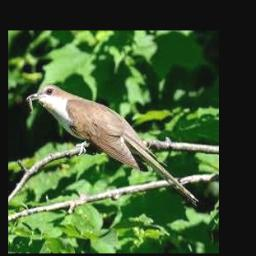Cuckoo: (27, 84, 199, 206)
